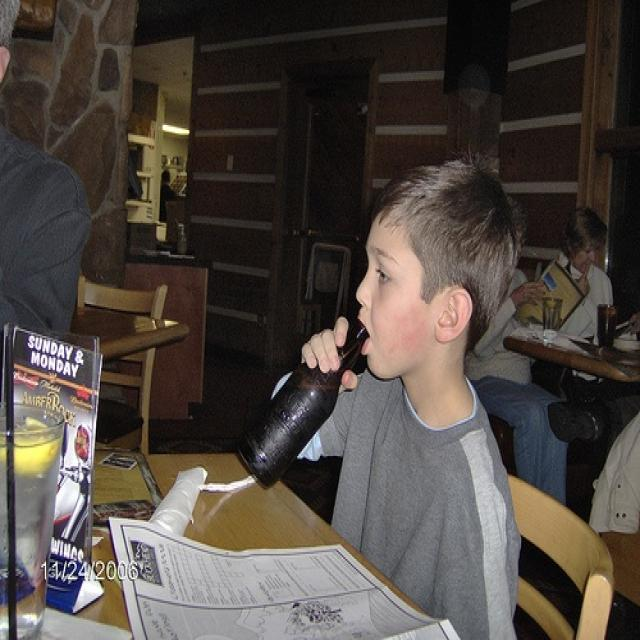Bottle: (237, 293, 376, 497)
Cup: (3, 402, 62, 639)
People: (330, 136, 530, 640), (0, 19, 94, 403), (494, 231, 563, 506), (559, 201, 637, 356)
Table: (0, 414, 457, 640), (515, 315, 640, 498)
chair: (496, 455, 621, 640), (74, 268, 178, 442)
